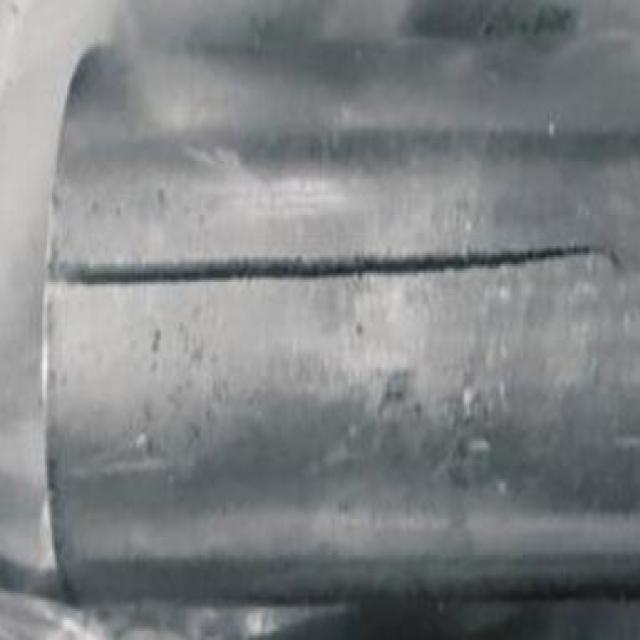crack: (50, 245, 604, 283)
